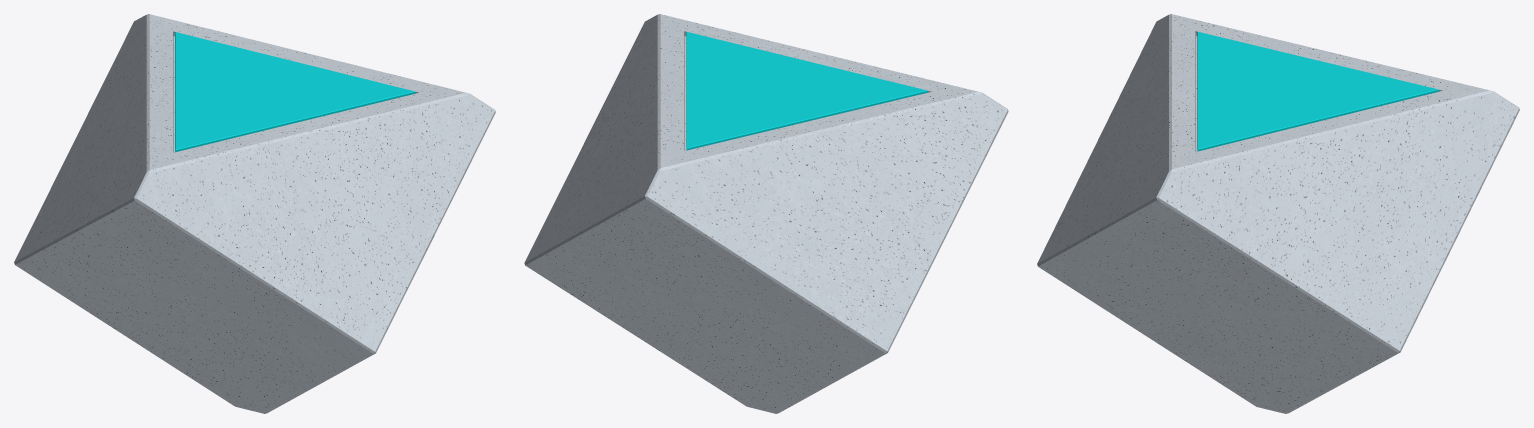
Rendered from D_Art_001.fbx.
The picture shows the model from 3 angles, left to right: view 1: azimuth 30°, elevation 25°; view 2: azimuth 150°, elevation 25°; view 3: azimuth 270°, elevation 25°; orthographic projection.
Parts seen in each view (by area): view 1: D_Art_001; view 2: D_Art_001; view 3: D_Art_001.
Part boxes in pixels (x1=…): D_Art_001: x1=14, y1=14, x2=495, y2=413; D_Art_001: x1=524, y1=14, x2=1008, y2=413; D_Art_001: x1=1037, y1=14, x2=1519, y2=413.
Size of the model in its own units: 1.04 by 0.8672 by 1.2.
